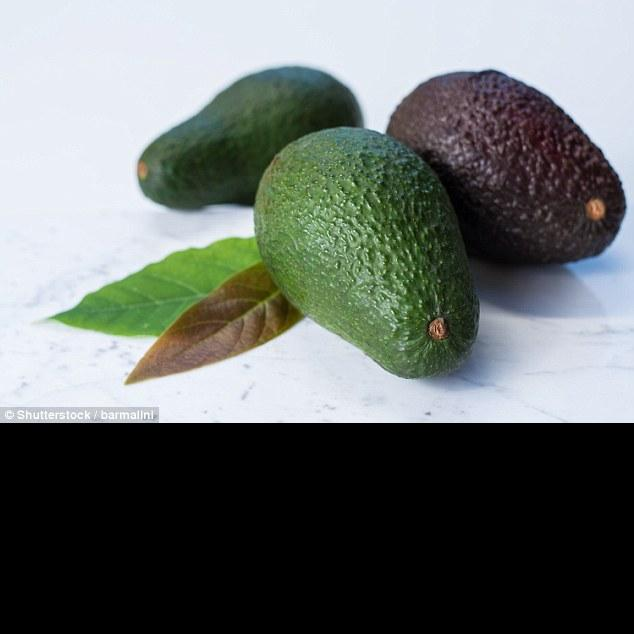ripe: (386, 71, 627, 268)
unripe: (253, 125, 479, 379), (138, 66, 363, 212)
